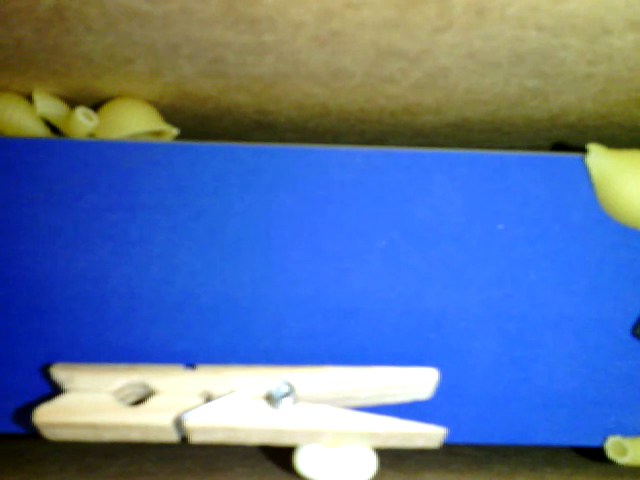elbow: (31, 85, 101, 139), (597, 427, 639, 467)
shell: (579, 136, 639, 232), (86, 99, 177, 143), (1, 89, 61, 135)
